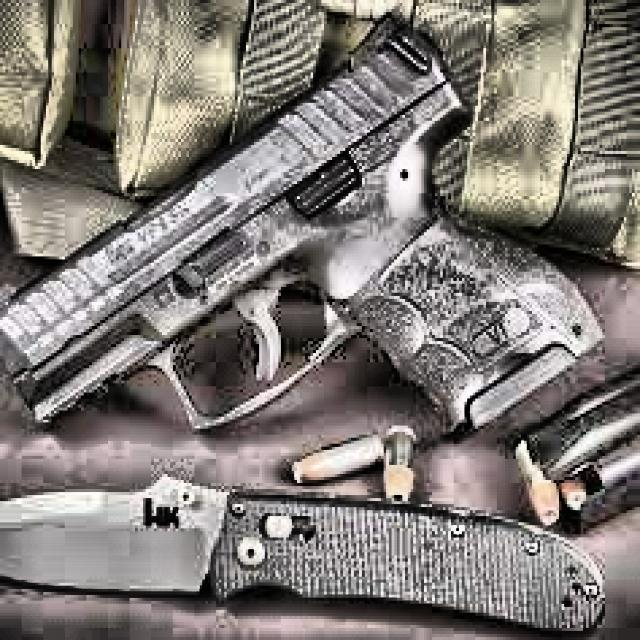HKVP9: (1, 7, 605, 442)
